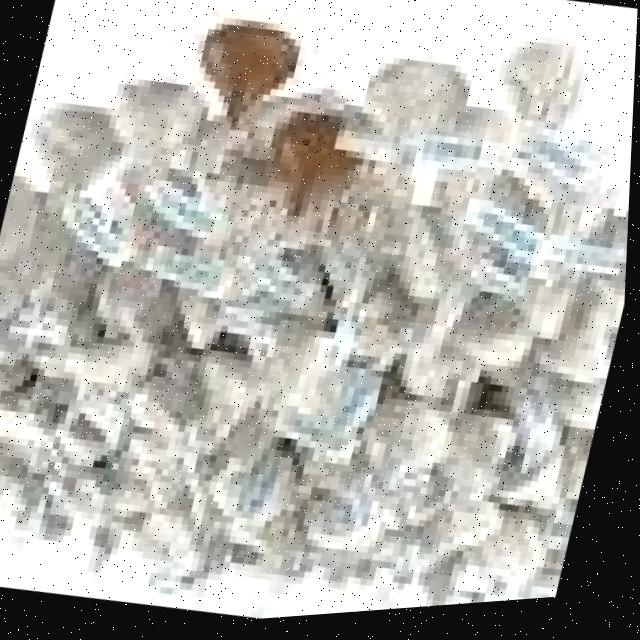kisses: (413, 151, 556, 324), (223, 300, 363, 458), (476, 31, 603, 185), (347, 56, 484, 196), (92, 69, 221, 211), (17, 92, 137, 236), (338, 393, 462, 519), (290, 463, 411, 581), (192, 434, 309, 546), (58, 316, 169, 419), (538, 290, 629, 405), (445, 310, 542, 411)
